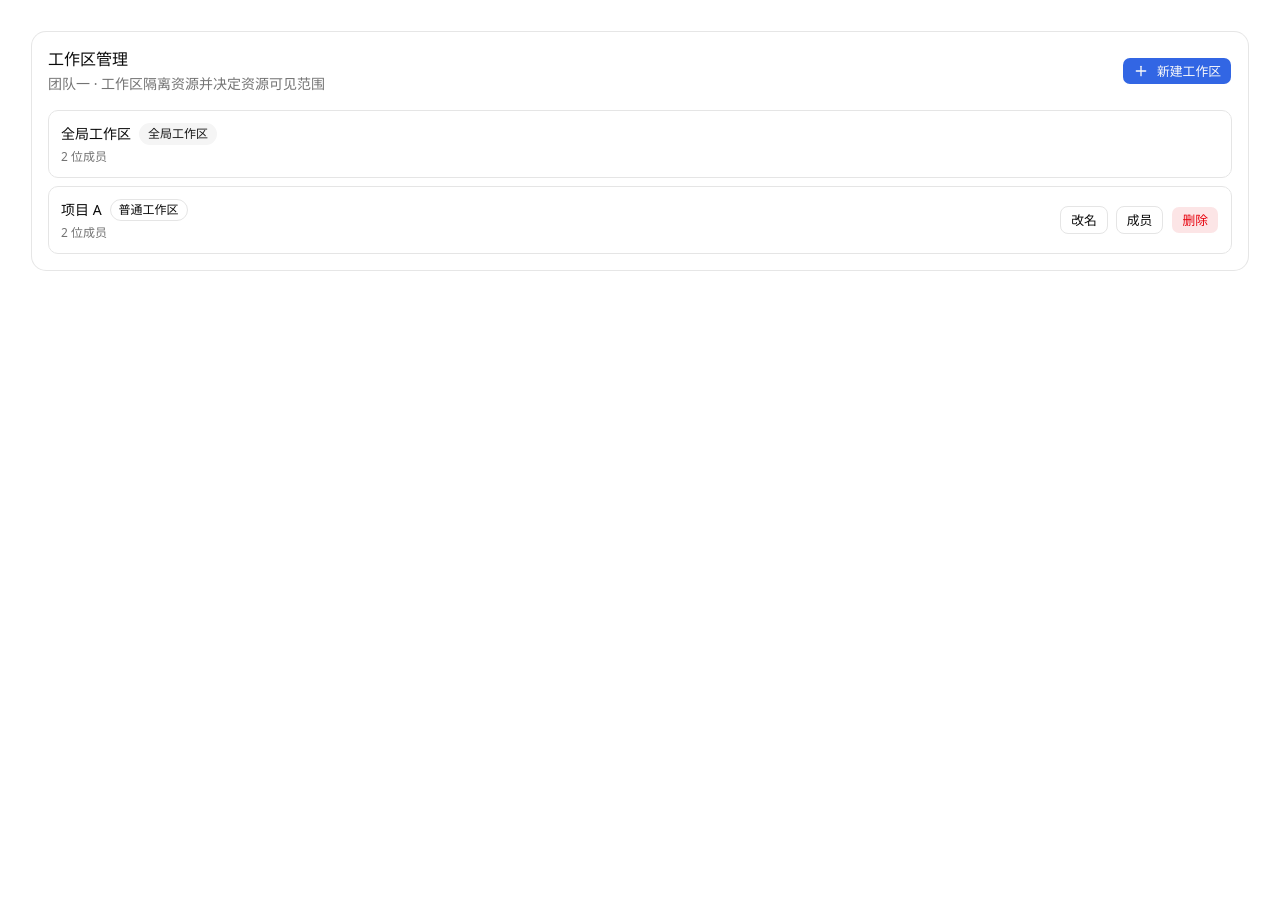
WorkspacePage（仅 admin 可操作） › 成员管理对话框可打开并展示成员列表
Click the button "成员".
click(1140, 220)  # box [1116,206,1163,234]
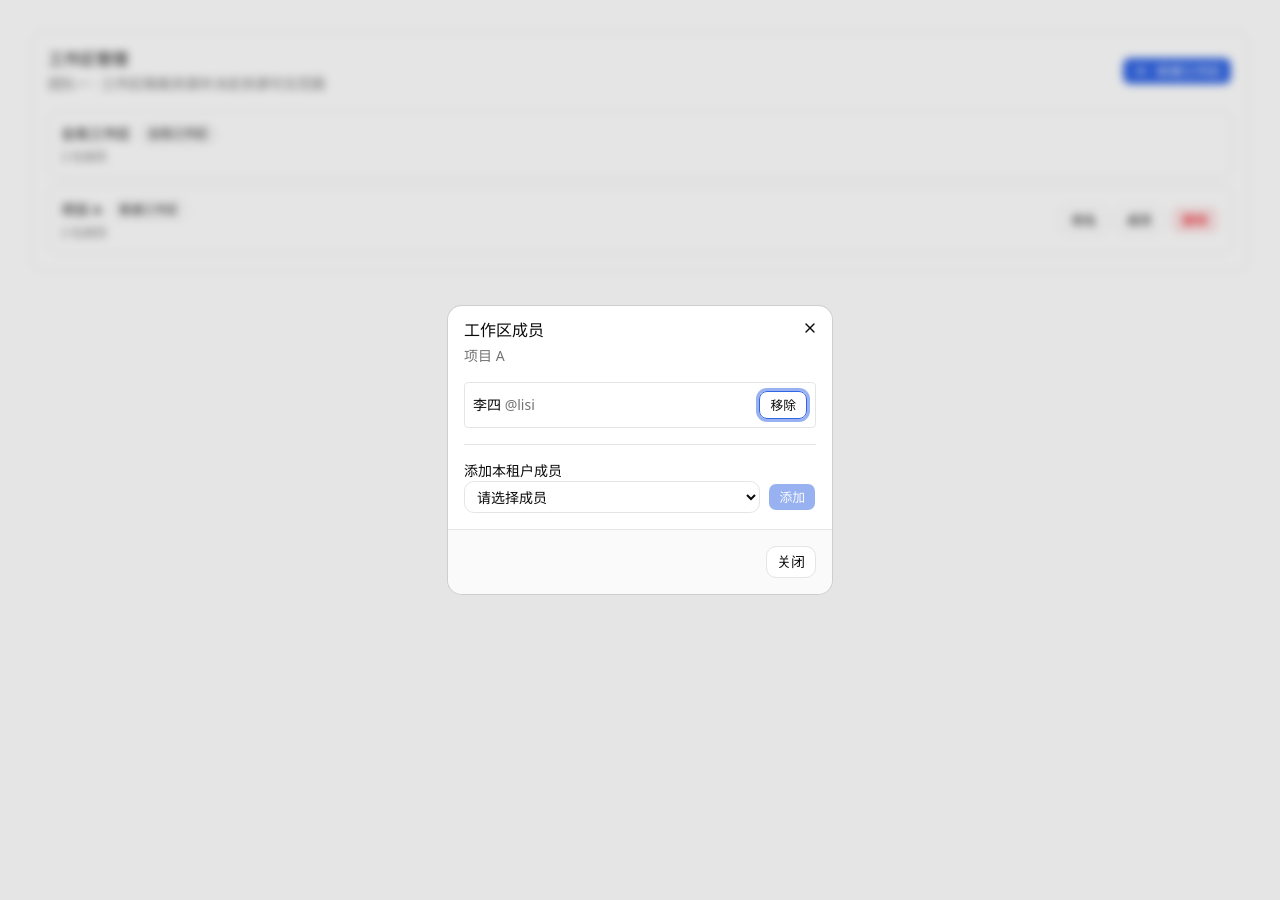
Expected: the heading "工作区成员" is shown, [464,319,544,341]
Expected: the text "李四" is shown, [473,395,501,414]
